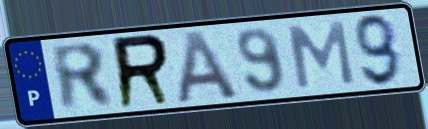9: (353, 11, 406, 88), (234, 25, 289, 96)
A: (174, 27, 243, 106)
M: (285, 19, 358, 91)
R: (110, 31, 176, 113), (47, 41, 118, 115)
